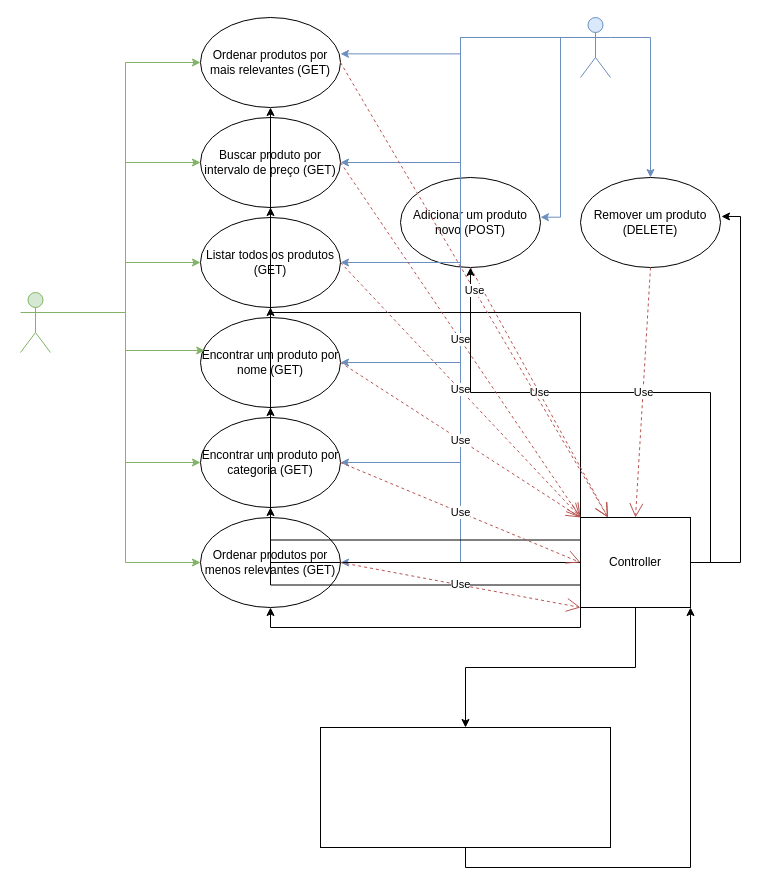
This 766x893 diagram has some shape labels left out. Each missing label, with the centre of its shape:
Administrador: (x=595, y=47)
Banco: (x=465, y=787)
Cliente: (x=35, y=322)
